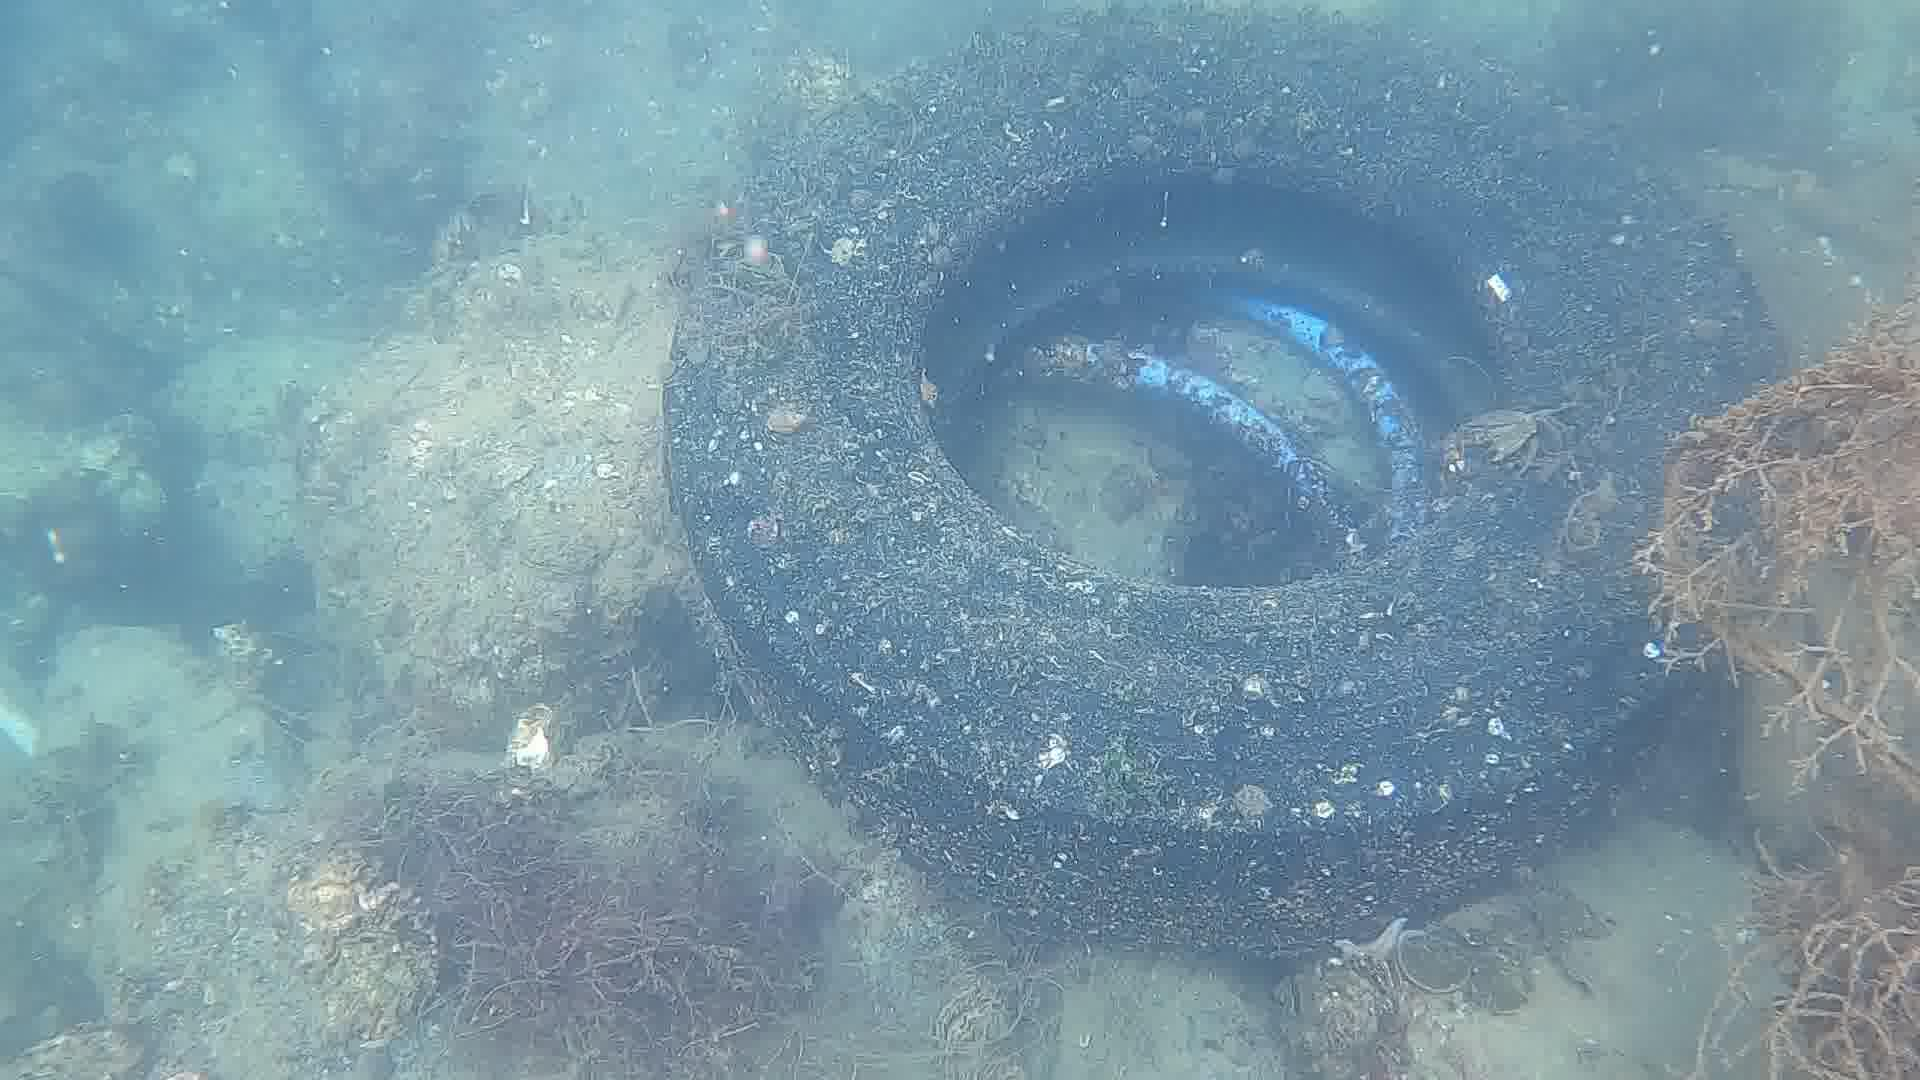tire: (661, 7, 1801, 951)
